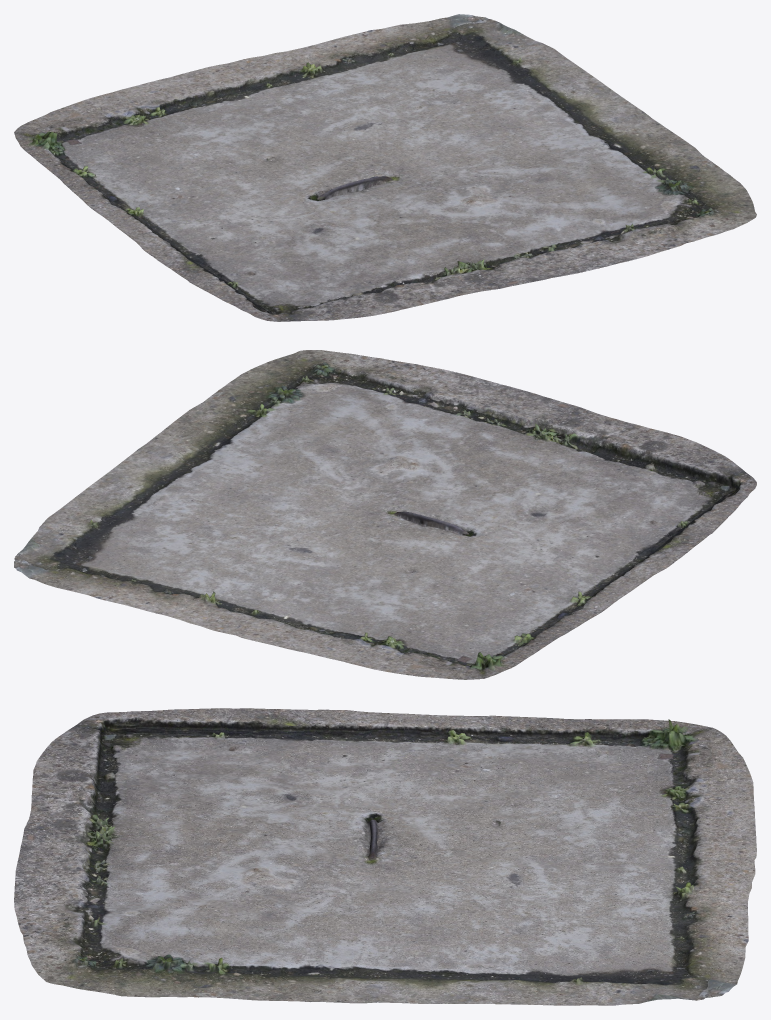
Rendered from FloorOpening.fbx.
3 views of the same model, one above another, from view 1: azimuth 30°, elevation 25°; view 2: azimuth 150°, elevation 25°; view 3: azimuth 270°, elevation 25° (orthographic). The views are drawn at different scales.
Visible parts, largest first — view 1: Old_manhole_cover; view 2: Old_manhole_cover; view 3: Old_manhole_cover.
Boxes of the visible parts, x1,y1,x2,y2 form: Old_manhole_cover: (14,14,756,321); Old_manhole_cover: (14,350,756,679); Old_manhole_cover: (14,708,756,1005).
Bounding box in the file's own units: 71.5 × 2.73 × 75.75.
1 material, 1 textured.
